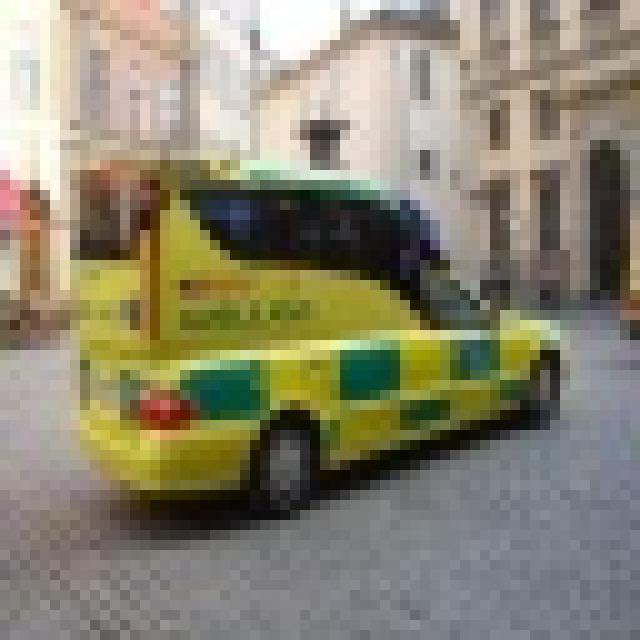Ambulance: (60, 150, 560, 510)
